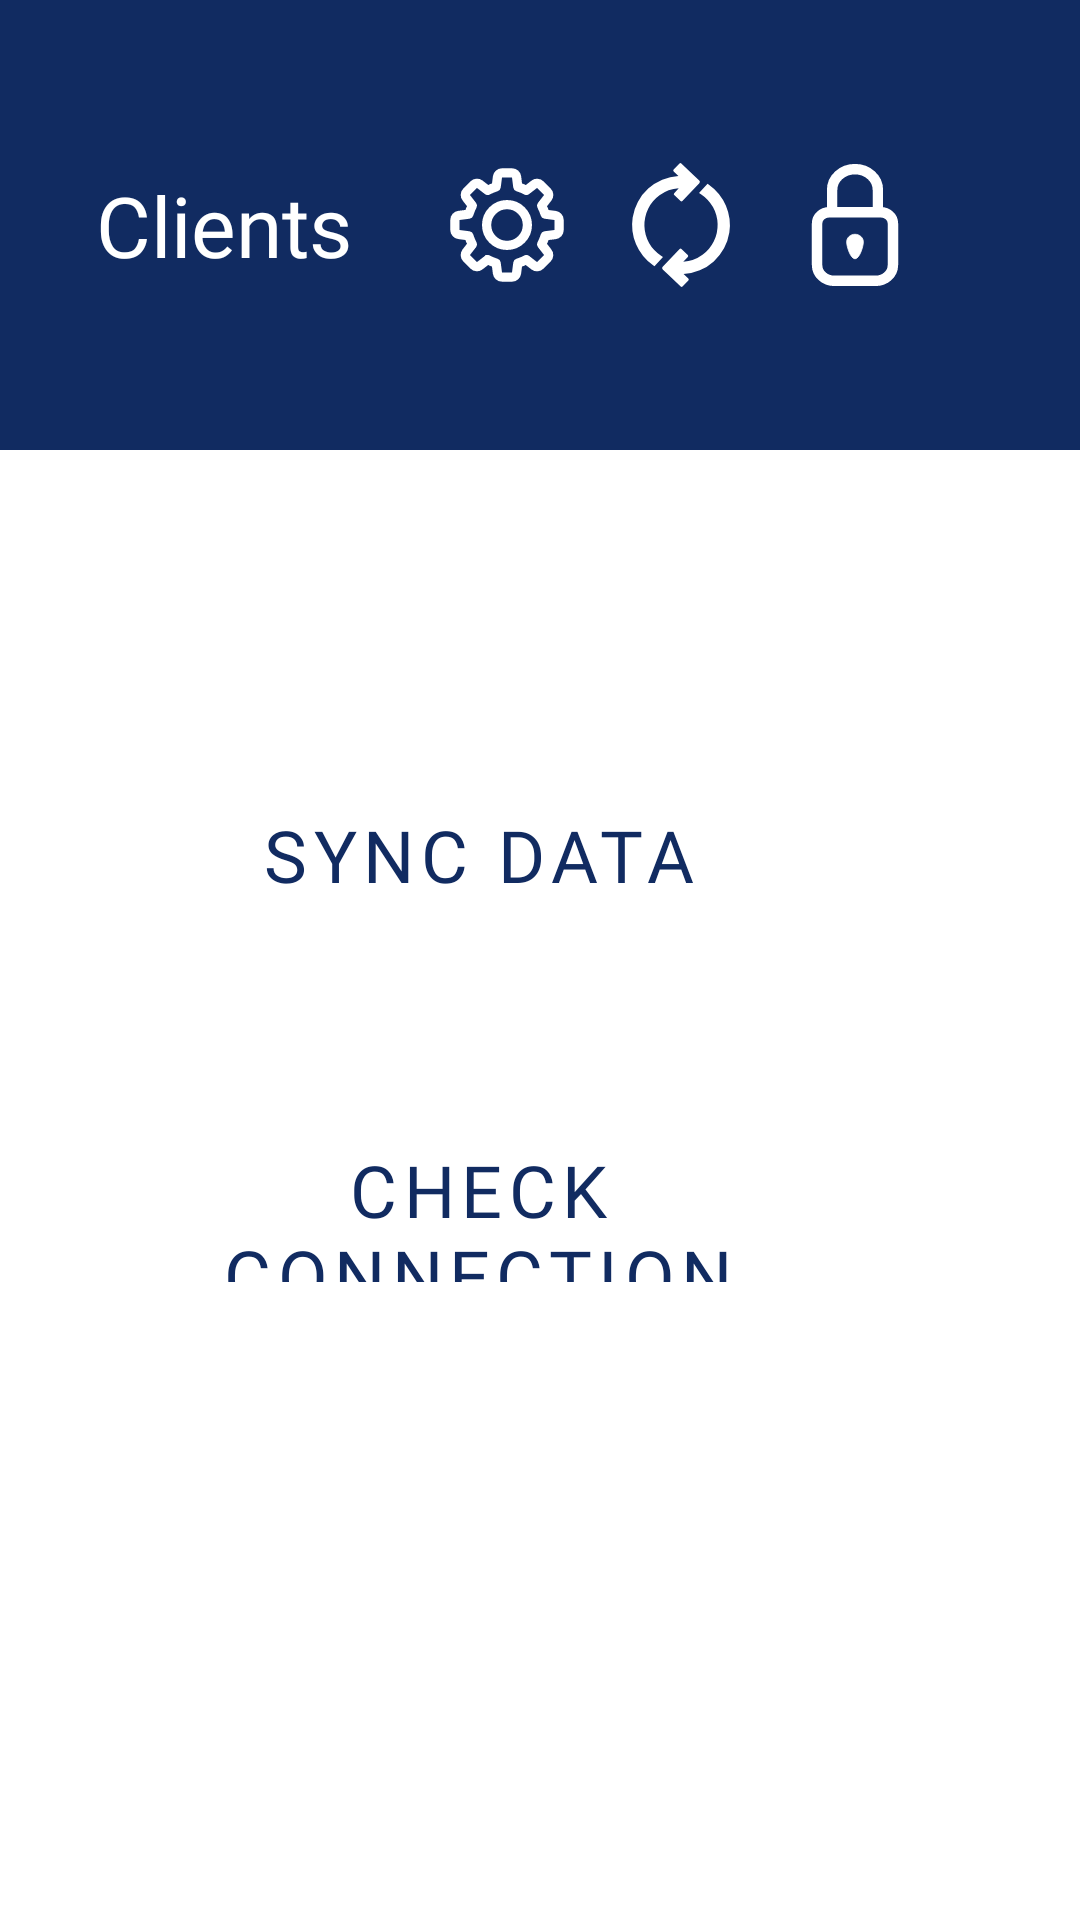

Icons on this 1080×1920 Android screen, each with the point to tap as (x=x, y=y):
lock: (x=855, y=225)
settings: (x=507, y=225)
sync: (x=681, y=225)
